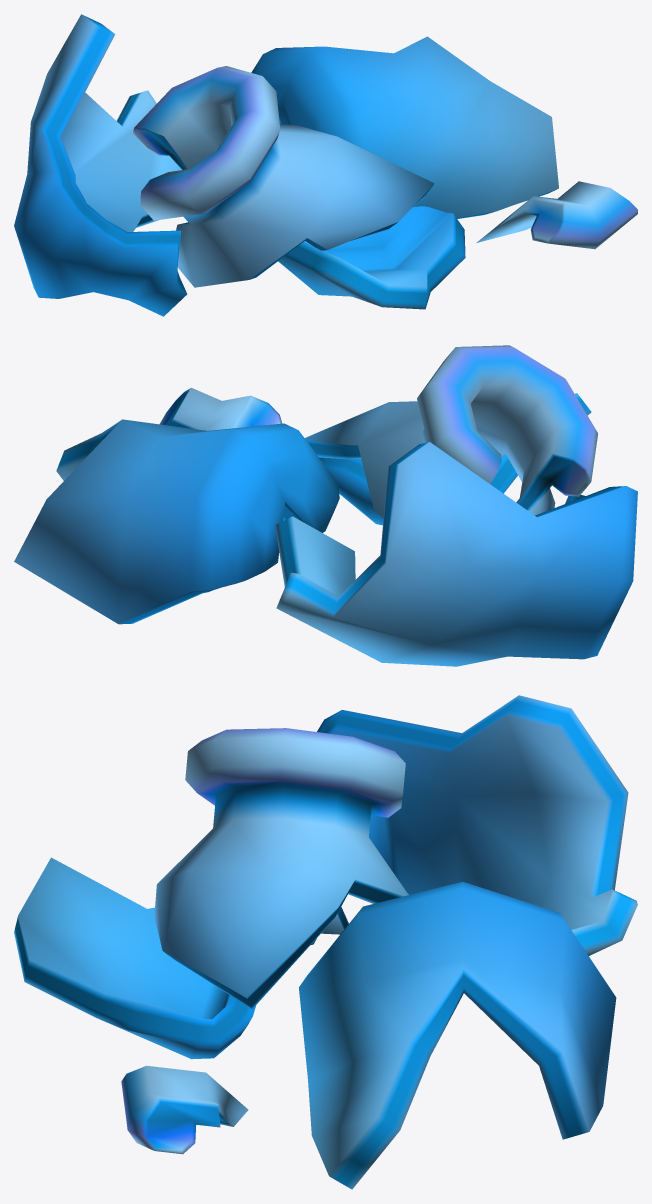
The model's file is BrokenGlass_M.fbx.
3 renders of one model, top to bottom at view 1: azimuth 30°, elevation 25°; view 2: azimuth 150°, elevation 25°; view 3: azimuth 270°, elevation 25°, orthographic. The views are drawn at different scales.
Parts seen in each view (by area): view 1: Glass Shards; view 2: Glass Shards; view 3: Glass Shards.
Part boxes in pixels (x1=…): Glass Shards: x1=14, y1=14, x2=637, y2=316; Glass Shards: x1=14, y1=345, x2=637, y2=666; Glass Shards: x1=14, y1=695, x2=637, y2=1189.
Bounding box in the file's own units: 164 × 66.54 × 135.
